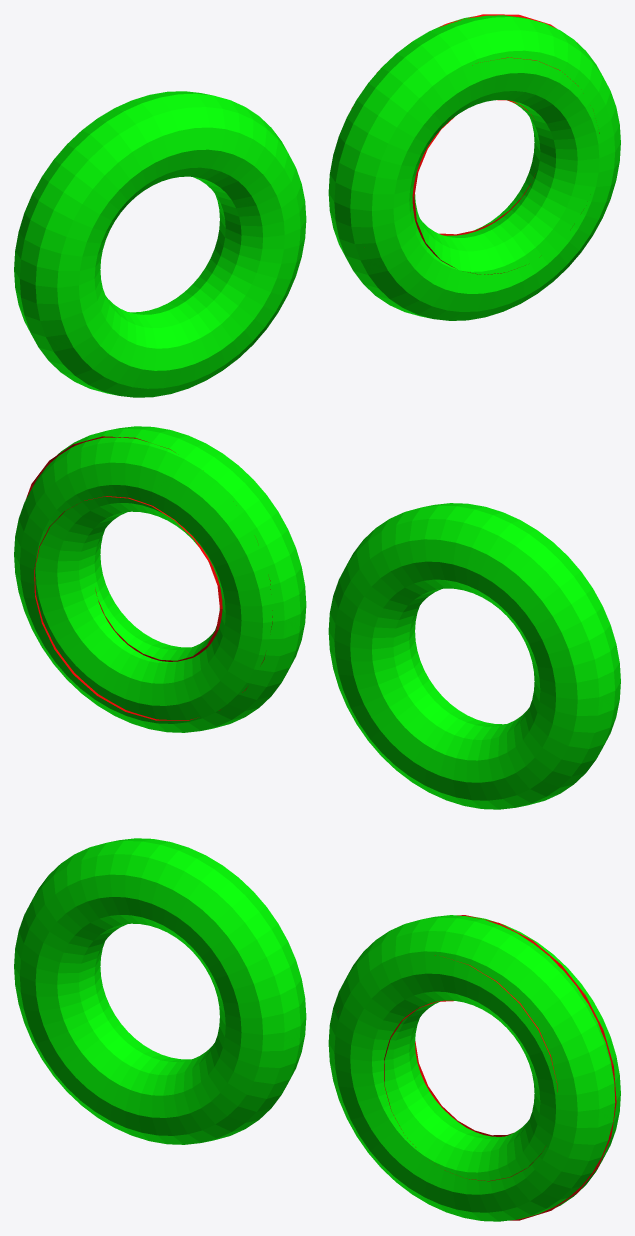
File: l4_1_website.glb
The picture shows the model from 3 angles, top to bottom: view 1: azimuth 30°, elevation 25°; view 2: azimuth 150°, elevation 25°; view 3: azimuth 330°, elevation 25°; orthographic projection.
Visible parts, largest first — view 1: Torus1, Torus2, l3_1; view 2: Torus1, Torus2, l3_1; view 3: Torus1, Torus2, l3_1.
Boxes of the visible parts, left/top/right/bottom form: Torus1: left=14, top=91, right=306, bottom=397; Torus2: left=328, top=15, right=620, bottom=320; l3_1: left=351, top=14, right=599, bottom=274; Torus1: left=328, top=503, right=620, bottom=809; Torus2: left=14, top=426, right=306, bottom=732; l3_1: left=25, top=436, right=272, bottom=720; Torus1: left=14, top=838, right=306, bottom=1144; Torus2: left=328, top=915, right=620, bottom=1221; l3_1: left=336, top=915, right=616, bottom=1220.
Size of the model in its own units: 319 by 150 by 40.27.
